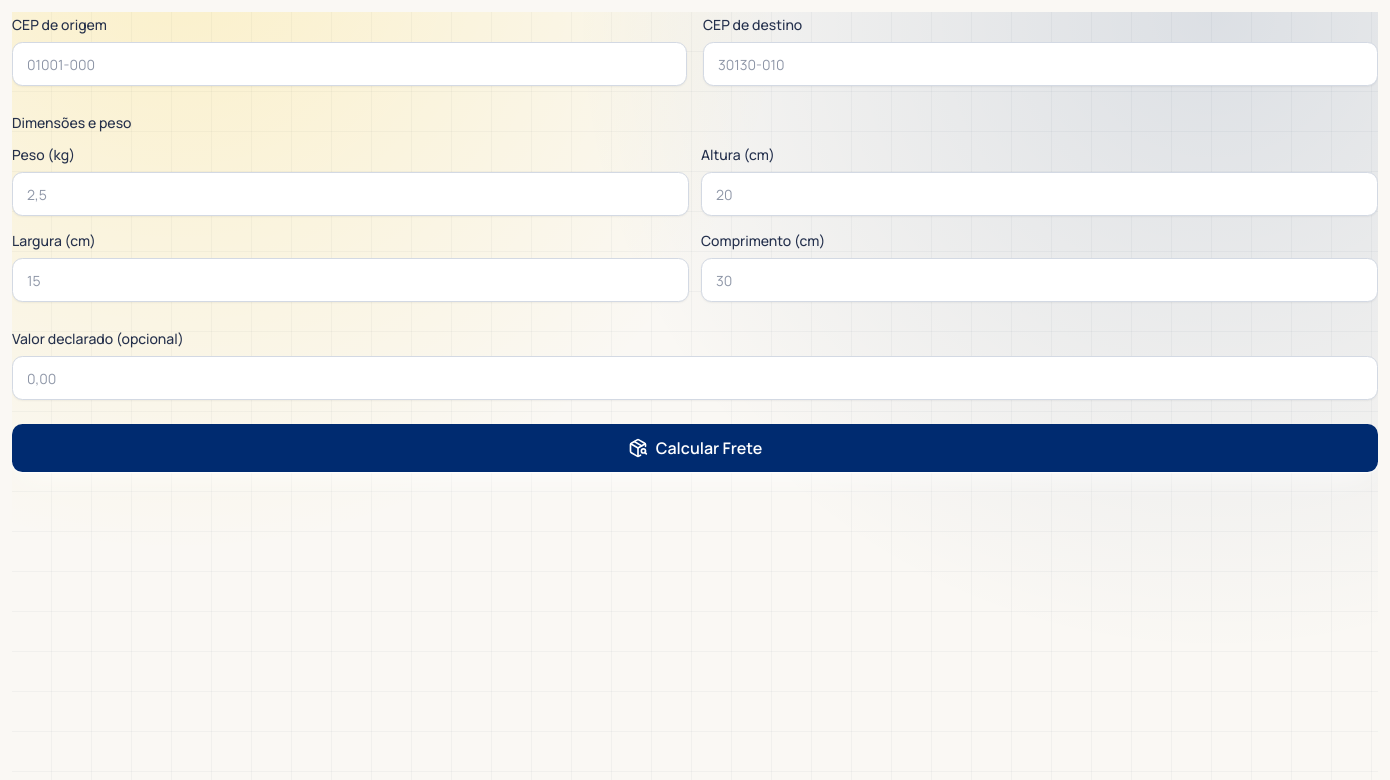
FreightForm › shows validation errors when submitting empty fields
Click the button "Calcular Frete" at (695, 448), box [12,424,1378,472]
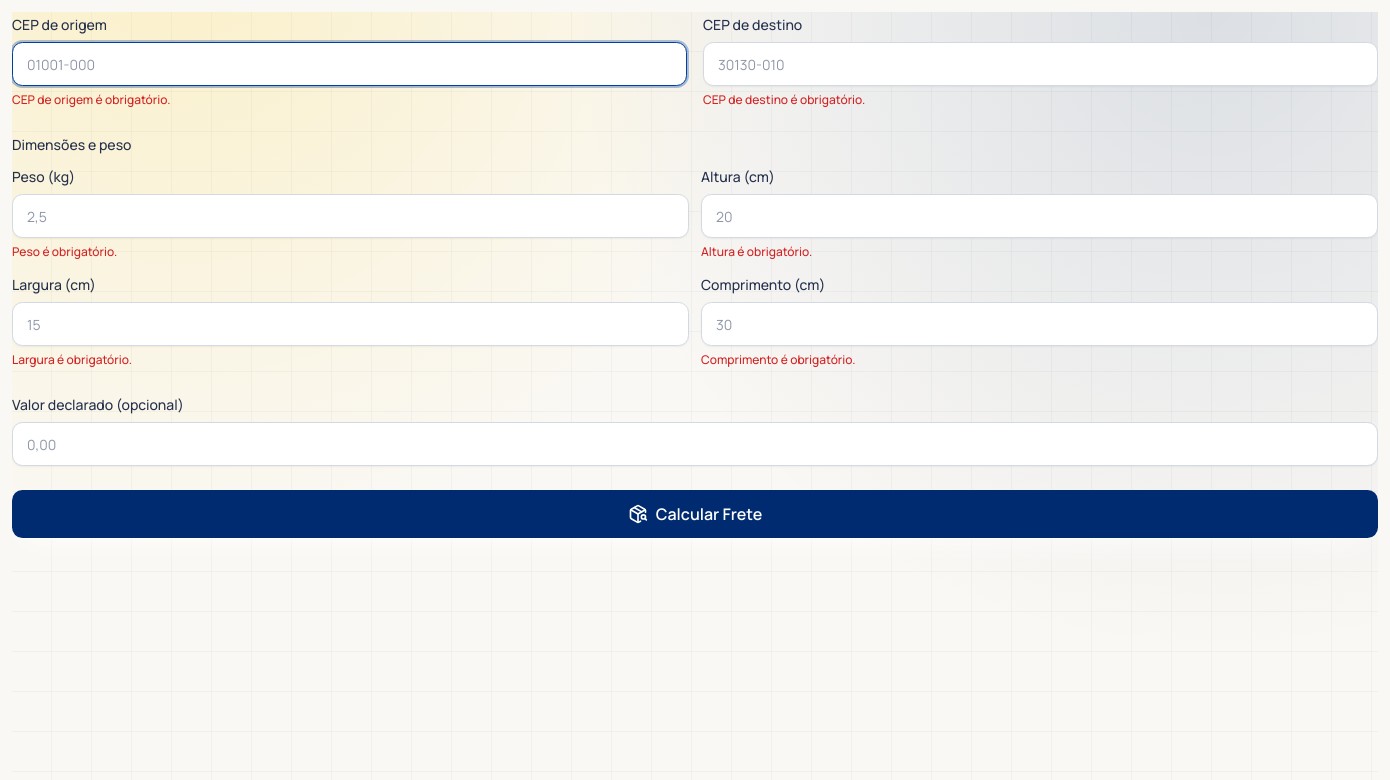
Now the text "CEP de origem é obrigatório." is shown, box [12,91,170,108]
